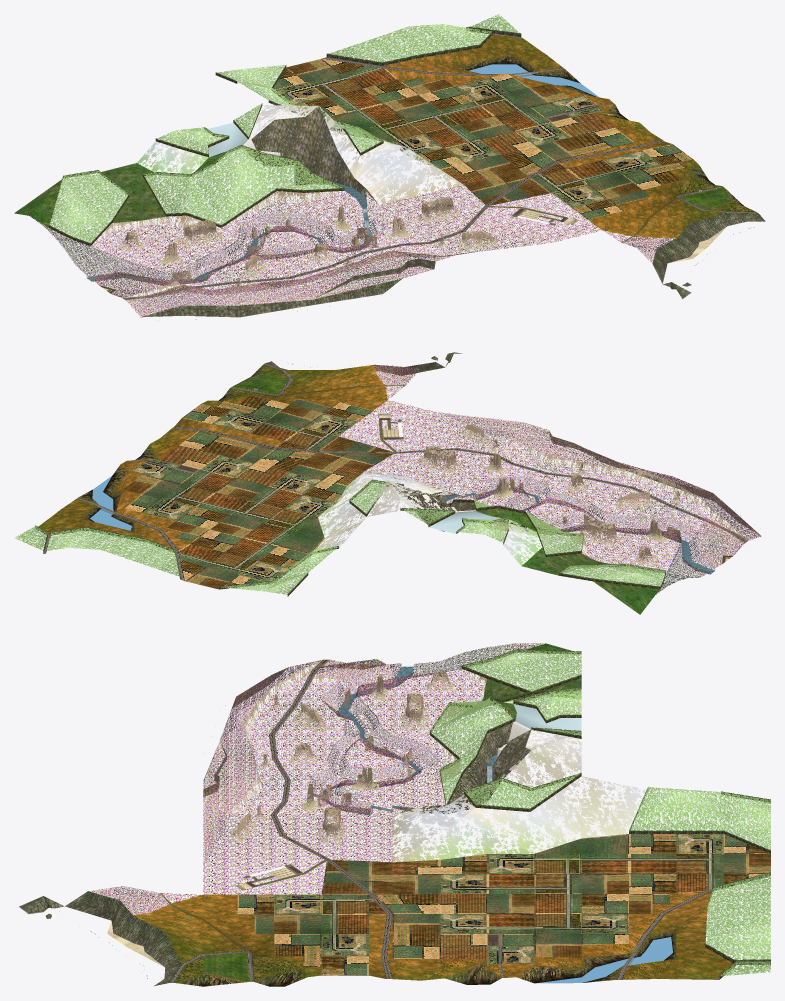
File: world-5.glb
3 renders of one model, top to bottom at view 1: azimuth 30°, elevation 25°; view 2: azimuth 150°, elevation 25°; view 3: azimuth 270°, elevation 25°, orthographic. The views are drawn at different scales.
Visible parts, largest first — view 1: world-5; view 2: world-5; view 3: world-5.
Part boxes in pixels (x1,y1,x2,y2): world-5: [14, 14, 765, 319]; world-5: [15, 352, 761, 614]; world-5: [19, 643, 770, 986].
Bounding box in the file's own units: 4000 × 445 × 4000.
40 materials, 40 textured.
